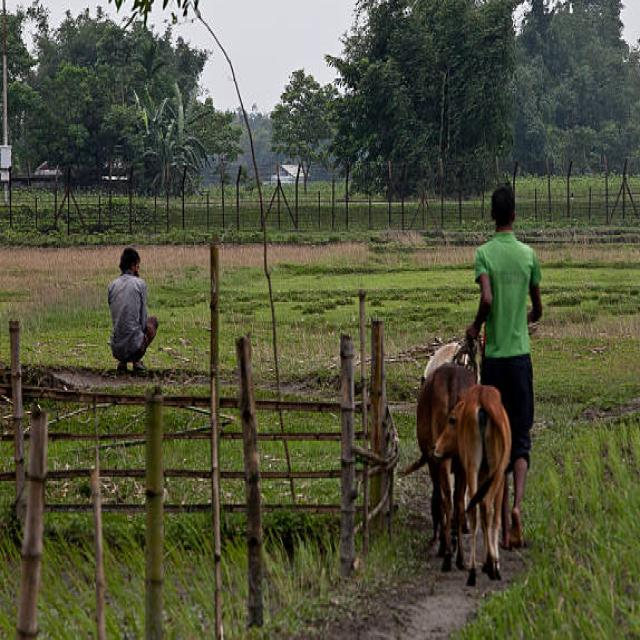civilian: (466, 184, 542, 547), (108, 247, 157, 371)
